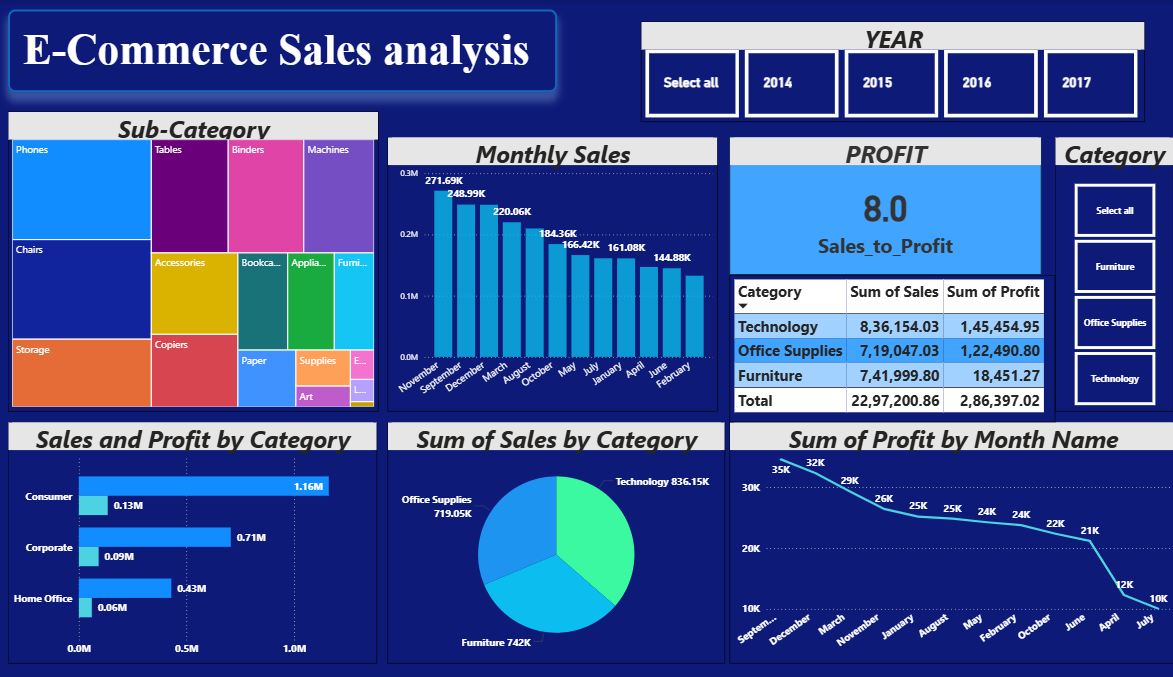

Layout of this report page (visuals, bound fields, positions):
{"tool":"powerbi","page":{"name":"Page 1","canvas":[1600,920],"ordinal":0},"visuals":[{"type":"clusteredColumnChart","title":"Monthly Sales                                                                                                    ","fields":{"Y":["Sum(Sample - Superstore.Sales)"],"Category":["Sample - Superstore.Month Name"]},"box":[530.5,187,447.1,371.9],"z":0},{"type":"pieChart","fields":{"Category":["Sample - Superstore.Category"],"Y":["Sum(Sample - Superstore.Sales)"]},"box":[530.5,573.2,457.3,327.2],"z":1000},{"type":"treemap","title":"Sub-Category","fields":{"Group":["Sample - Superstore.Sub-Category"],"Values":["Sum(Sample - Superstore.Sales)"]},"box":[16.3,152.4,502,406.5],"z":2000},{"type":"lineChart","fields":{"Category":["Sample - Superstore.Month Name"],"Y":["Sum(Sample - Superstore.Profit)"]},"box":[993.9,573.2,605.7,327.2],"z":3000},{"type":"clusteredBarChart","title":"Sales and Profit by Category ","fields":{"Y":["Sum(Sample - Superstore.Sales)","Sum(Sample - Superstore.Profit)"],"Category":["Sample - Superstore.Segment"]},"box":[16.3,573.2,500,327.2],"z":4000},{"type":"tableEx","fields":{"Values":["Sample - Superstore.Category","Sum(Sample - Superstore.Sales)","Sum(Sample - Superstore.Profit)"]},"box":[993.9,374,441,199.2],"z":5000},{"type":"card","title":"PROFIT","fields":{"Values":["Sample - Superstore.Sales_to_Profit"]},"box":[993.9,187,422.7,187],"z":6000},{"type":"textbox","box":[16.3,14.2,743.9,111.8],"z":7000},{"type":"slicer","title":"Category ","fields":{"Values":["Sample - Superstore.Category"]},"box":[1434.9,187,160.6,371.9],"z":8000},{"type":"advancedSlicerVisual","title":"YEAR","fields":{"Values":["Sample - Superstore.Order_year"]},"box":[874,30.5,682.9,136.2],"z":9000}]}

Visuals, with their boxes in screenshot pixels (x1, y1, x2, y2), scaled from the page's 1600x920 canvas onto the 1173x677 screenshot:
"Monthly Sales                                                                                                    " clusteredColumnChart: <region>389, 138, 717, 411</region>
pieChart - Sample - Superstore.Category x Sum(Sample - Superstore.Sales): <region>389, 422, 724, 663</region>
"Sub-Category" treemap: <region>12, 112, 380, 411</region>
lineChart - Sample - Superstore.Month Name x Sum(Sample - Superstore.Profit): <region>729, 422, 1172, 663</region>
"Sales and Profit by Category " clusteredBarChart: <region>12, 422, 379, 663</region>
tableEx - Sample - Superstore.Category x Sum(Sample - Superstore.Sales): <region>729, 275, 1052, 422</region>
"PROFIT" card: <region>729, 138, 1039, 275</region>
textbox: <region>12, 10, 557, 93</region>
"Category " slicer: <region>1052, 138, 1170, 411</region>
"YEAR" advancedSlicerVisual: <region>641, 22, 1141, 123</region>
